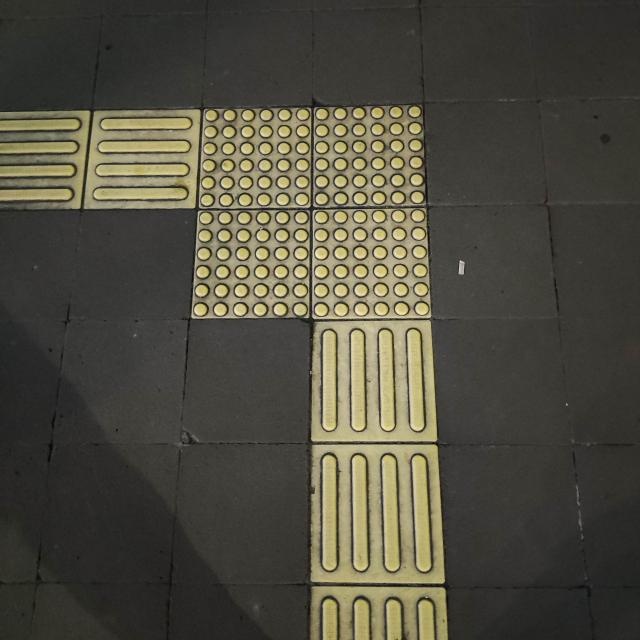kiri: (2, 67, 530, 387)
